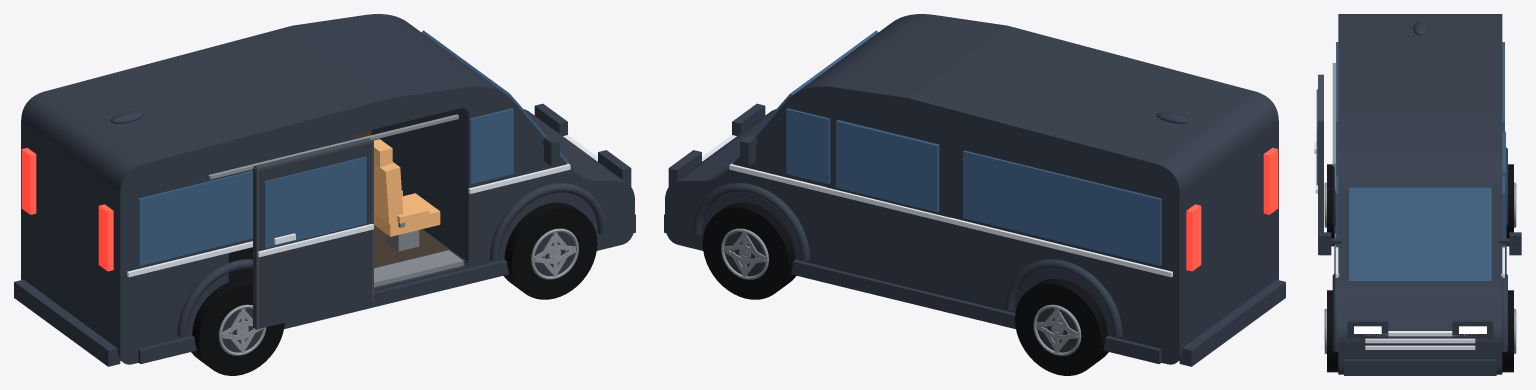
Rendered from fleet-van.glb.
The picture shows the model from 3 angles, left to right: view 1: azimuth 30°, elevation 25°; view 2: azimuth 150°, elevation 25°; view 3: azimuth 270°, elevation 25°; orthographic projection. The views are drawn at different scales.
Visible parts, largest first — view 1: body_shell, door_skin, quarter_glass_left, door_glass, wheel_front_left_tyre, wheel_rear_left_tyre, rocker_left, driver_glass_left, rear_bumper, arch_front_left, door_shutline (×2), door_step (+20 smaller); view 2: body_shell, quarter_glass_right, offside_patch, offside_door_glass, wheel_front_right_tyre, wheel_rear_right_tyre, rocker_right, driver_glass_right, waist_trim_right, rear_bumper, arch_rear_right, arch_front_right (+11 smaller); view 3: body_shell, windshield, front_bumper, door_shutline (×2), headlamp_housing_left, headlamp_housing_right, grille_slat_2, wheel_front_right_tyre, wheel_front_left_tyre, grille_slat_3, arch_front_left, wheel_rear_left_tyre (+15 smaller).
Boxes of the visible parts, bbox=[...] form: body_shell: bbox=[21, 14, 634, 364]; door_skin: bbox=[259, 143, 371, 328]; quarter_glass_left: bbox=[138, 170, 252, 265]; door_glass: bbox=[264, 156, 366, 248]; wheel_front_left_tyre: bbox=[503, 202, 597, 299]; wheel_rear_left_tyre: bbox=[191, 279, 284, 375]; rocker_left: bbox=[138, 259, 508, 363]; driver_glass_left: bbox=[469, 108, 513, 184]; rear_bumper: bbox=[14, 279, 120, 366]; arch_front_left: bbox=[489, 183, 607, 260]; door_shutline (×2): bbox=[253, 138, 372, 329]; door_step: bbox=[374, 250, 463, 287]; body_shell: bbox=[665, 14, 1278, 364]; quarter_glass_right: bbox=[963, 150, 1161, 265]; offside_patch: bbox=[827, 101, 950, 297]; offside_door_glass: bbox=[836, 120, 939, 212]; wheel_front_right_tyre: bbox=[702, 202, 796, 299]; wheel_rear_right_tyre: bbox=[1015, 279, 1108, 375]; rocker_right: bbox=[791, 259, 1161, 363]; driver_glass_right: bbox=[786, 108, 830, 184]; waist_trim_right: bbox=[729, 163, 1172, 277]; rear_bumper: bbox=[1179, 279, 1285, 366]; arch_rear_right: bbox=[1005, 259, 1122, 337]; arch_front_right: bbox=[692, 183, 810, 260]; body_shell: bbox=[1338, 14, 1502, 374]; windshield: bbox=[1349, 187, 1491, 281]; front_bumper: bbox=[1344, 359, 1496, 375]; door_shutline (×2): bbox=[1318, 74, 1323, 254]; headlamp_housing_left: bbox=[1347, 318, 1388, 338]; headlamp_housing_right: bbox=[1452, 318, 1493, 338]; grille_slat_2: bbox=[1365, 338, 1475, 343]; wheel_front_right_tyre: bbox=[1502, 290, 1513, 372]; wheel_front_left_tyre: bbox=[1327, 290, 1338, 372]; grille_slat_3: bbox=[1365, 345, 1475, 349]; arch_front_left: bbox=[1332, 273, 1338, 351]; wheel_rear_left_tyre: bbox=[1327, 164, 1334, 246].
Bounding box in the file's own units: 6.17 × 2.61 × 2.53.
